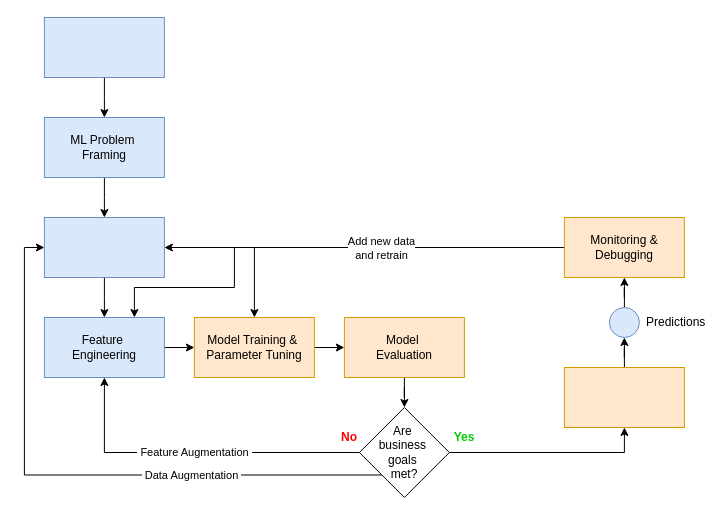
Some shapes in this 723 by 515 pixel diagram are drawn without their labels. Here are the shapes that lost their labels. From the top down, the centre of each, then its label:
At pixel 103 47: "Business Problem".
At pixel 103 247: "Data Collection & Preparation".
At pixel 623 397: "Model Testing & Deployment".
